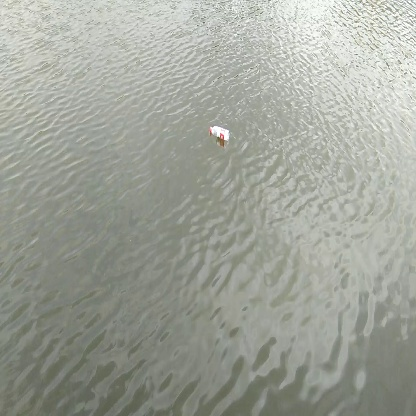bottle: (208, 120, 235, 143)
